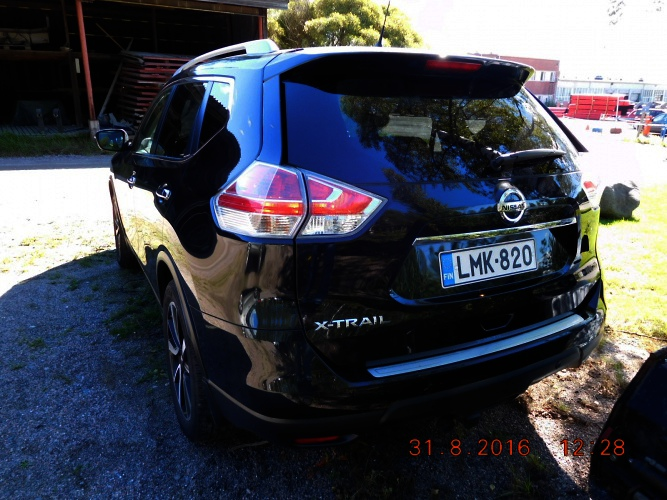license: (430, 235, 536, 289)
